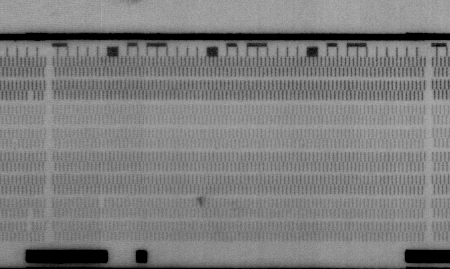Broken hole: (25, 210, 35, 232), (25, 88, 36, 102), (96, 198, 108, 210)
Oblique printing: (9, 139, 22, 152)
